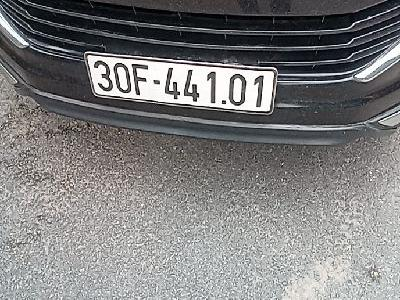lisence: (83, 50, 279, 119)
